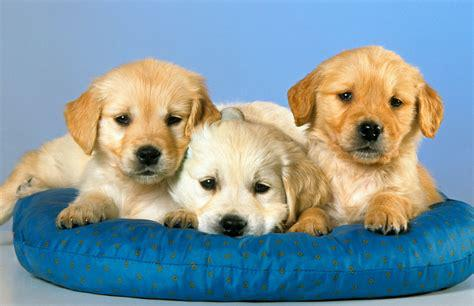dog: (1, 58, 220, 227), (288, 46, 444, 234), (171, 120, 332, 237)
